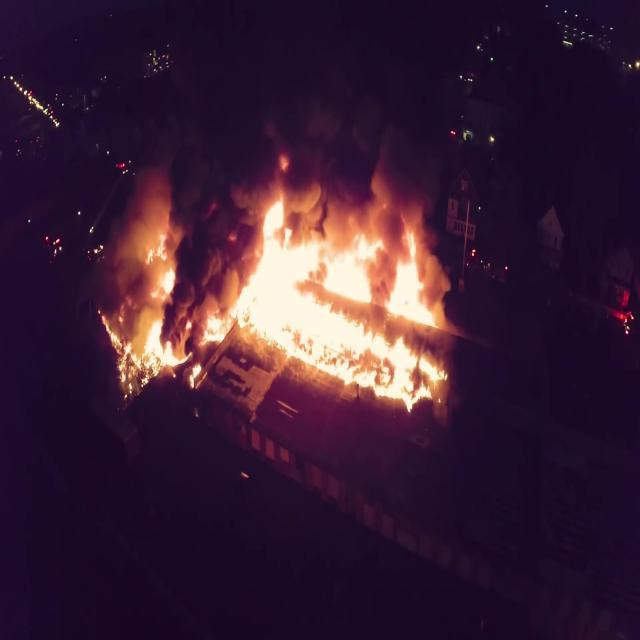Fire: (133, 217, 439, 401)
Smoke: (180, 0, 494, 234)
